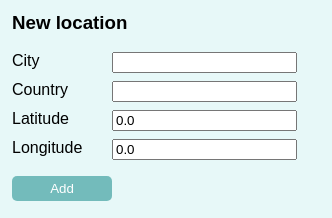
Test: Add location component › has button enabled
The image size is (332, 218).
Type "Text" into the field next to "City" at (204, 63), box x1=112 y1=52 x2=297 y2=73
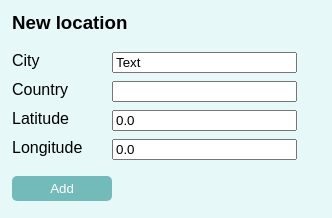
Type "Text" into the field next to "Country" at (204, 92), box x1=112 y1=81 x2=297 y2=102
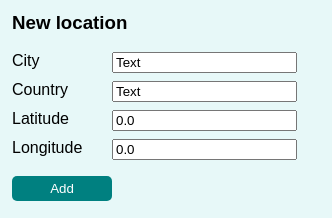
expect the button is enabled: met, box x1=12 y1=176 x2=112 y2=201
